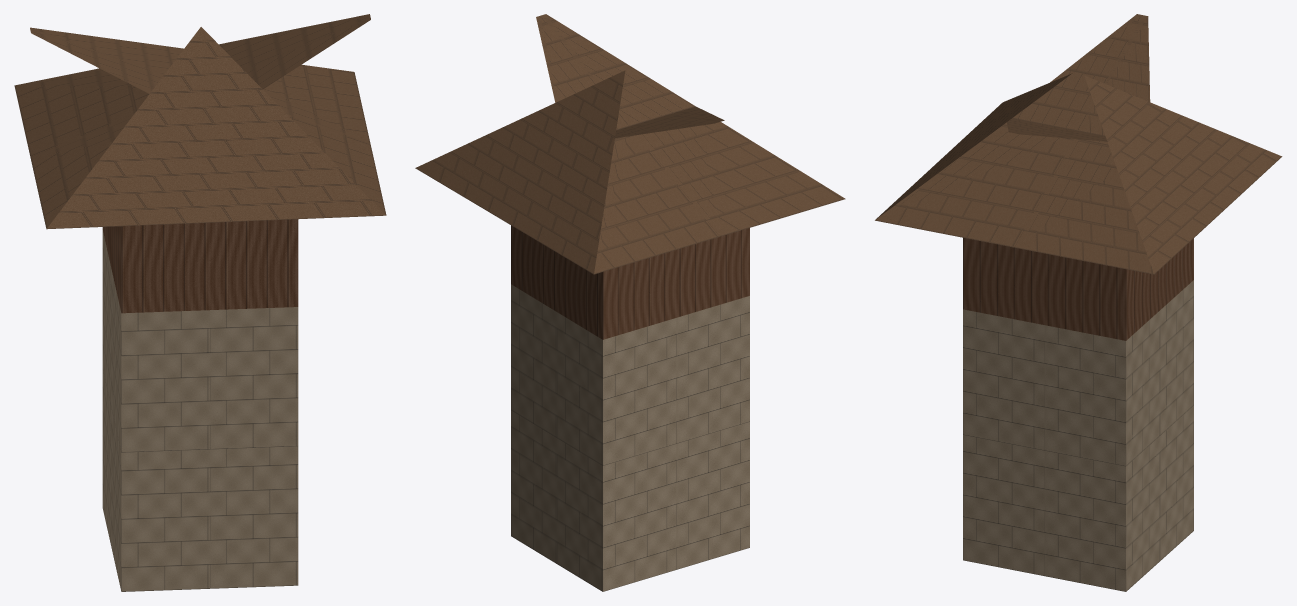
File: bld_c-3_0_540.gltf
The picture shows the model from 3 angles, left to right: view 1: azimuth 30°, elevation 25°; view 2: azimuth 150°, elevation 25°; view 3: azimuth 270°, elevation 25°; orthographic projection. The views are drawn at different scales.
Parts seen in each view (by area): view 1: bld_c-3_0_540; view 2: bld_c-3_0_540; view 3: bld_c-3_0_540.
Boxes of the visible parts, x1=… form: bld_c-3_0_540: x1=14, y1=14, x2=386, y2=591; bld_c-3_0_540: x1=415, y1=14, x2=845, y2=591; bld_c-3_0_540: x1=875, y1=14, x2=1282, y2=591.
Size of the model in its own units: 6.63 by 8.45 by 6.63.
Materials: 3 (3 with a texture image).
